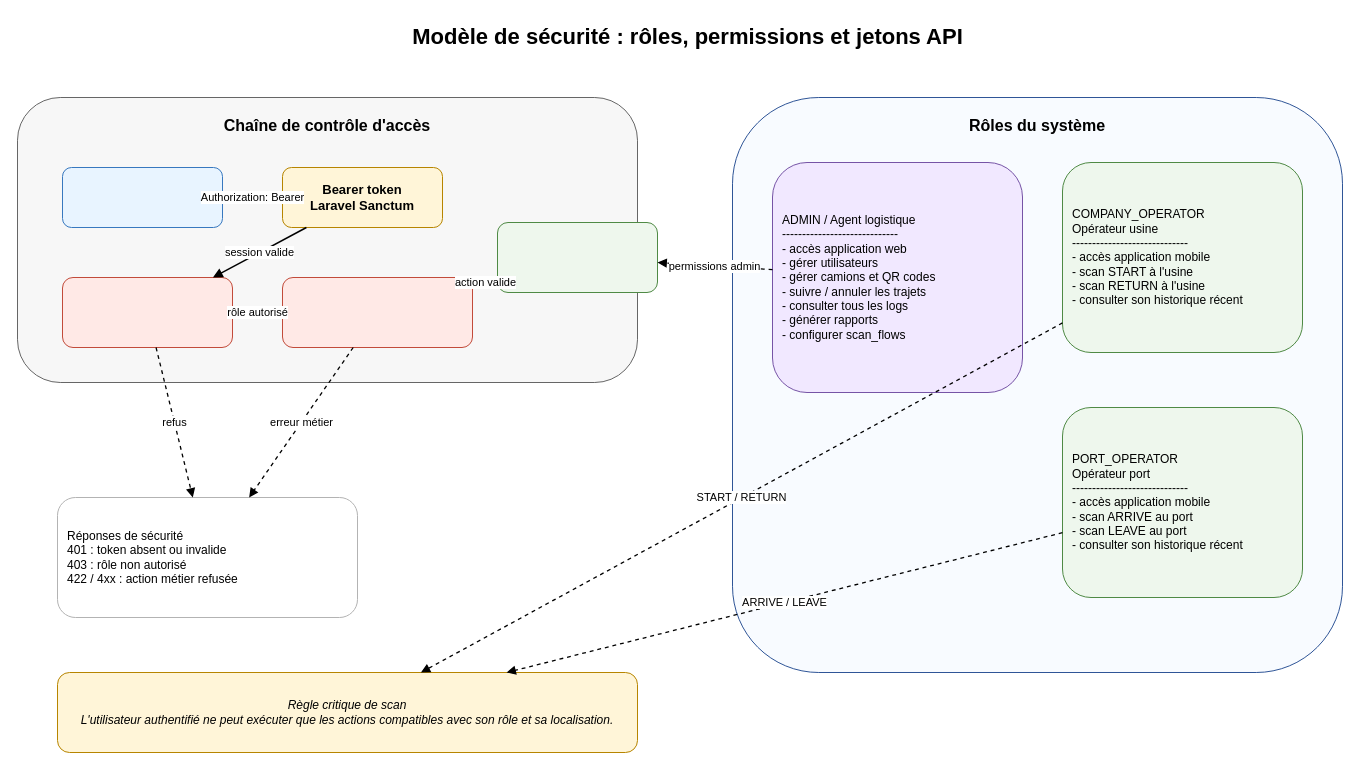
This 1360x770 diagram has some shape labels left out. The shapes that lost their labels are listed below. From the top down, each one's centre as x and y in pixels, then its label:
At [142,197]: "Client React / Flutter".
At [577,257]: "Endpoint protégé scan / admin / rapport".
At [147,312]: "Middleware RBAC vérification du rôle".
At [377,312]: "Validation métier rôle + localisation + action".
